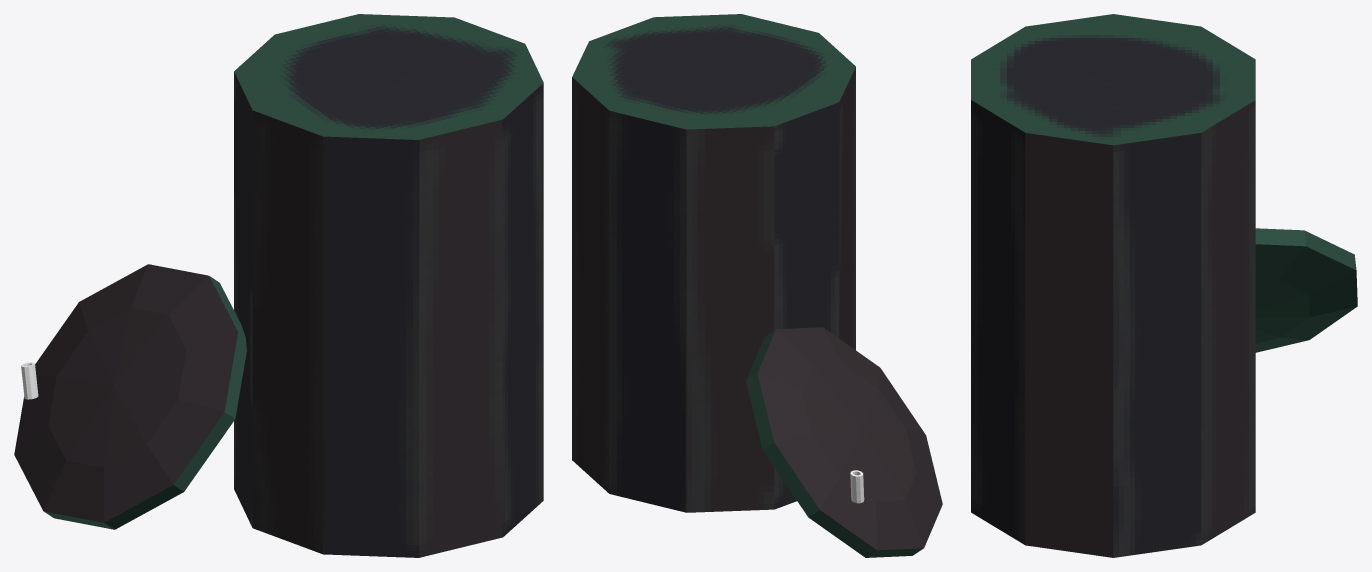
The model's file is Trash Can.gltf.
The picture shows the model from 3 angles, left to right: view 1: azimuth 30°, elevation 25°; view 2: azimuth 150°, elevation 25°; view 3: azimuth 270°, elevation 25°; orthographic projection. The views are drawn at different scales.
Visible parts, largest first — view 1: cylinder, sphere; view 2: cylinder, sphere; view 3: cylinder, sphere.
Boxes of the visible parts, x1,y1,x2,y2 form: cylinder: (234,14,543,557); sphere: (14,264,246,529); cylinder: (572,14,855,512); sphere: (746,327,942,557); cylinder: (971,14,1255,557); sphere: (1255,228,1357,352).
Size of the model in its own units: 0.5304 by 0.5 by 0.4247.
Materials: 3 (2 with a texture image).
